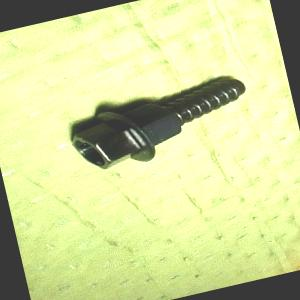parafuso: (64, 73, 257, 176)
